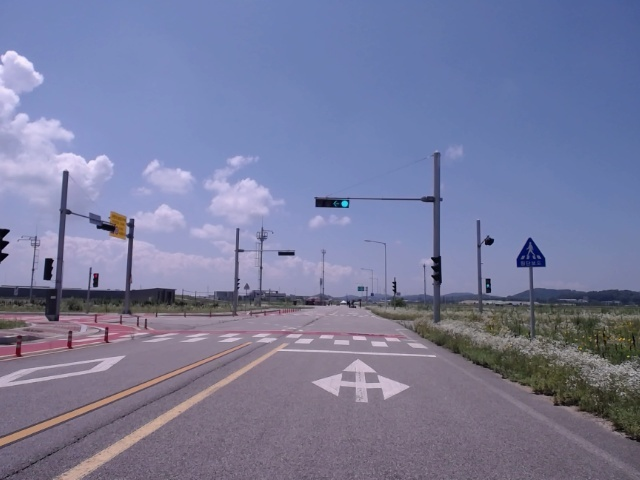all_green_4: (314, 197, 347, 209)
